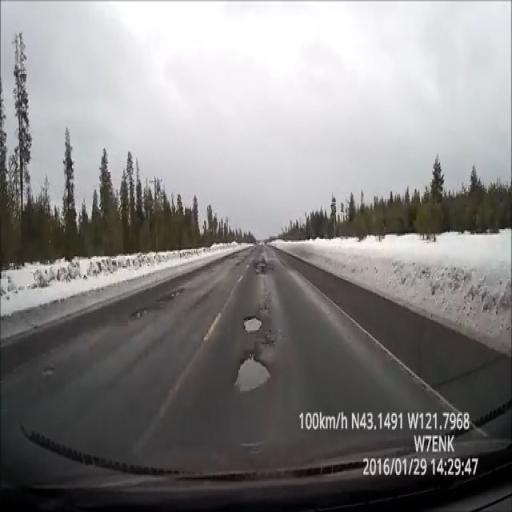Potholes: (234, 344, 270, 391)
